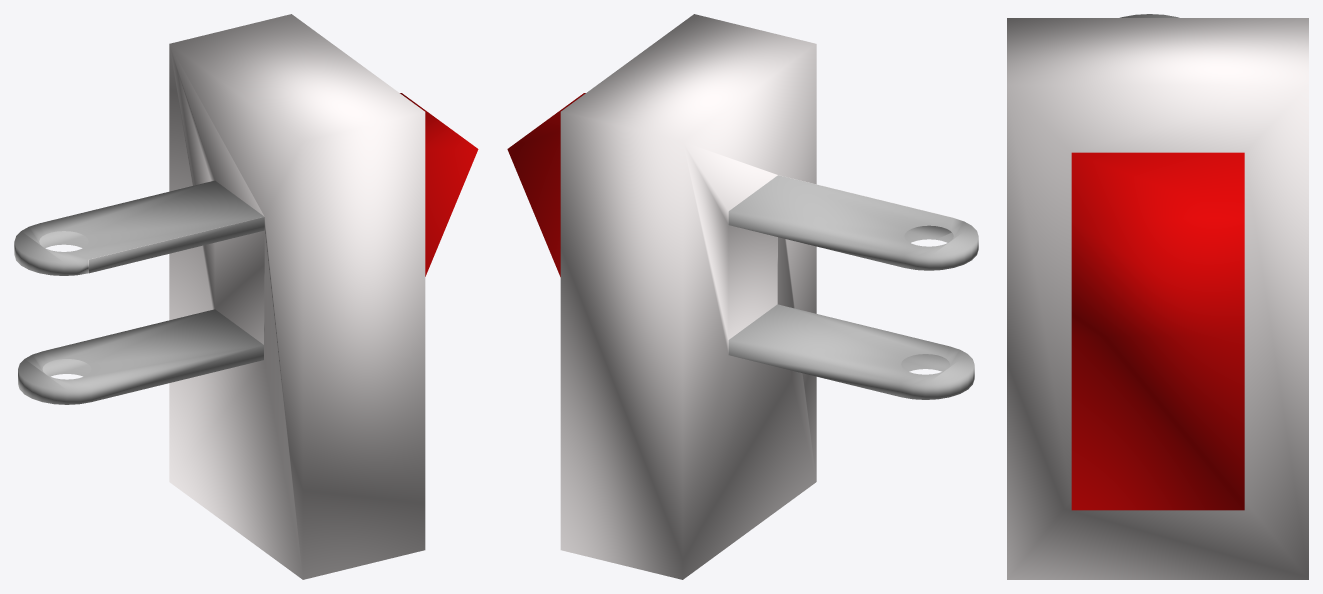
Rendered from Botao.dae.
The picture shows the model from 3 angles, left to right: view 1: azimuth 30°, elevation 25°; view 2: azimuth 150°, elevation 25°; view 3: azimuth 270°, elevation 25°; orthographic projection. The views are drawn at different scales.
Parts seen in each view (by area): view 1: Botao (×9); view 2: Botao (×8); view 3: Botao (×2).
Part boxes in pixels (x1,y1,x2,y2): Botao (×9): (14,14,478,579); Botao (×8): (507,14,978,579); Botao (×2): (1007,18,1308,579).
Size of the model in its own units: 81 by 44.38 by 80.25.
